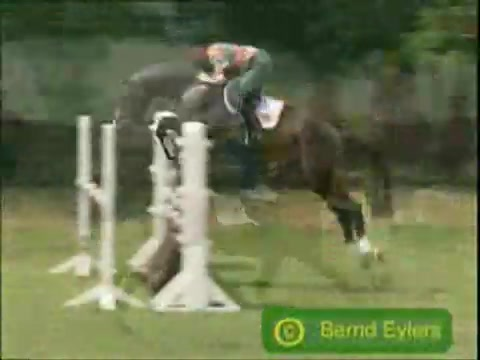horse: (110, 71, 375, 277)
